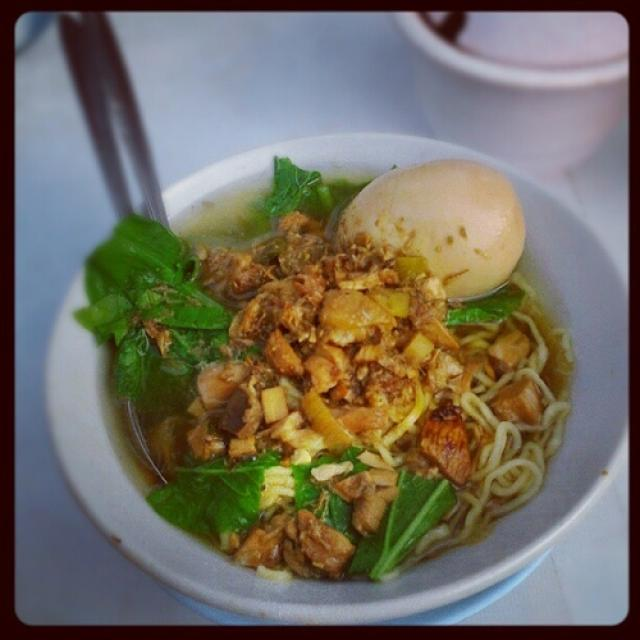面条主食: (61, 117, 608, 616)
